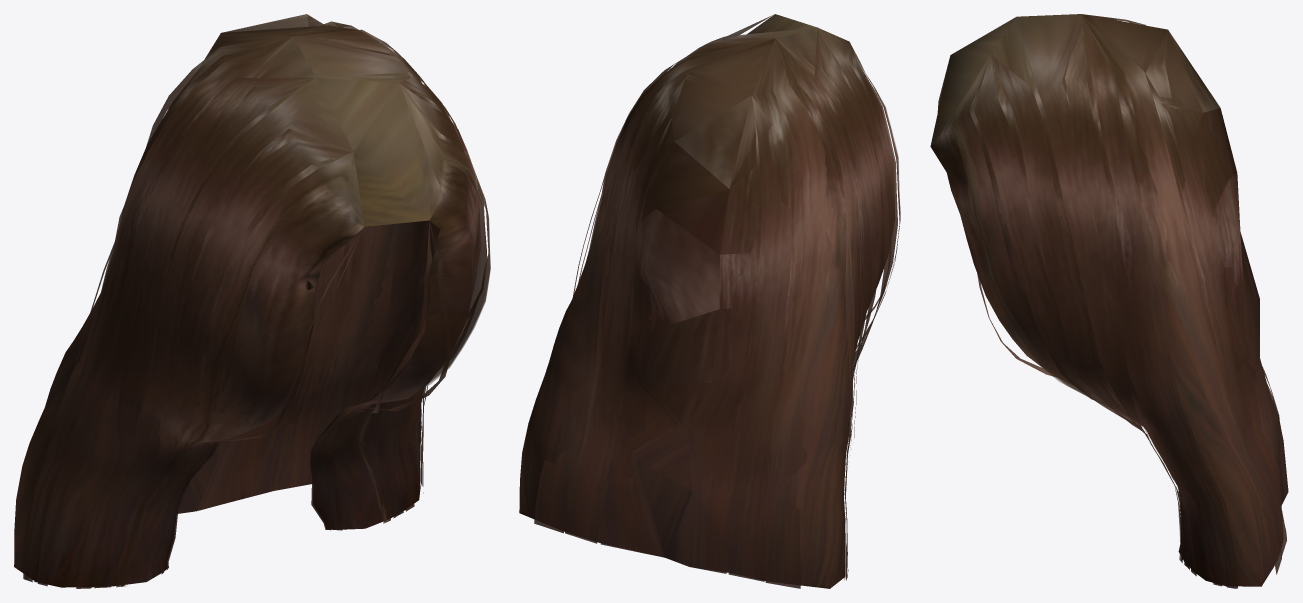
Rendered from medium.glb.
The picture shows the model from 3 angles, left to right: view 1: azimuth 30°, elevation 25°; view 2: azimuth 150°, elevation 25°; view 3: azimuth 270°, elevation 25°; orthographic projection. The views are drawn at different scales.
Visible parts, largest first — view 1: hair_medium; view 2: hair_medium; view 3: hair_medium.
Boxes of the visible parts, x1,y1,x2,y2 form: hair_medium: (14,14,490,588); hair_medium: (519,14,900,588); hair_medium: (930,14,1288,588).
Size of the model in its own units: 0.3154 by 0.429 by 0.2878.
1 material, 1 textured.
